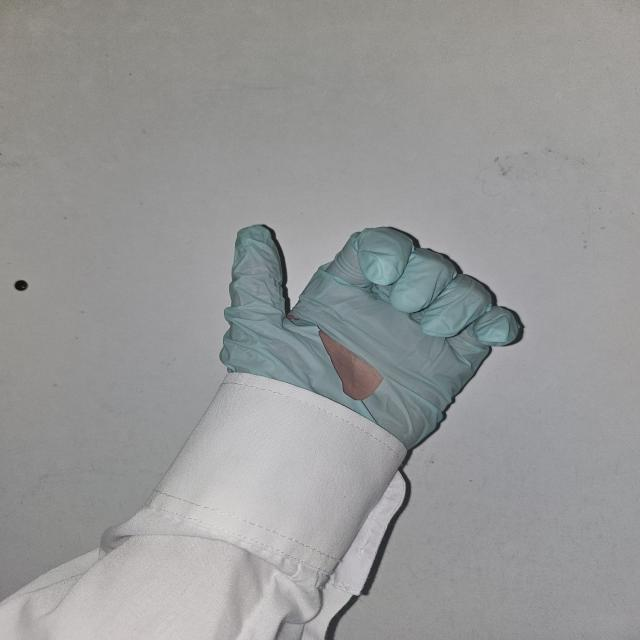gloves_damaged: (219, 222, 526, 447)
